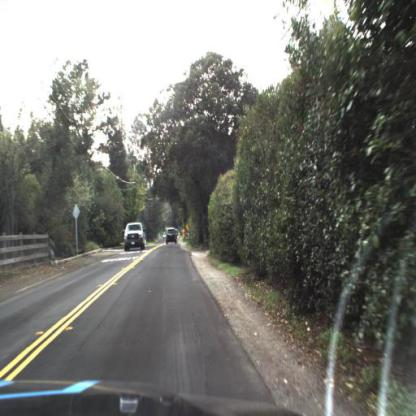car: (123, 222, 146, 254), (166, 226, 180, 249)
